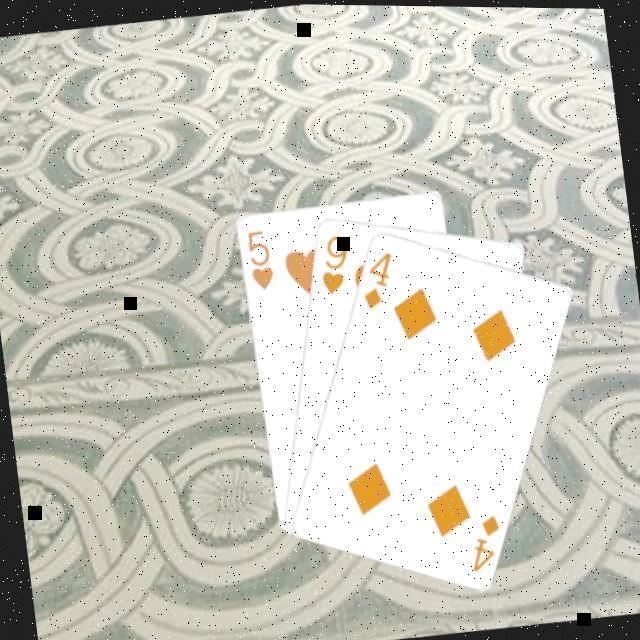4D: (352, 247, 398, 314), (460, 509, 506, 575)
5H: (240, 226, 276, 294)
9H: (310, 230, 354, 298)
